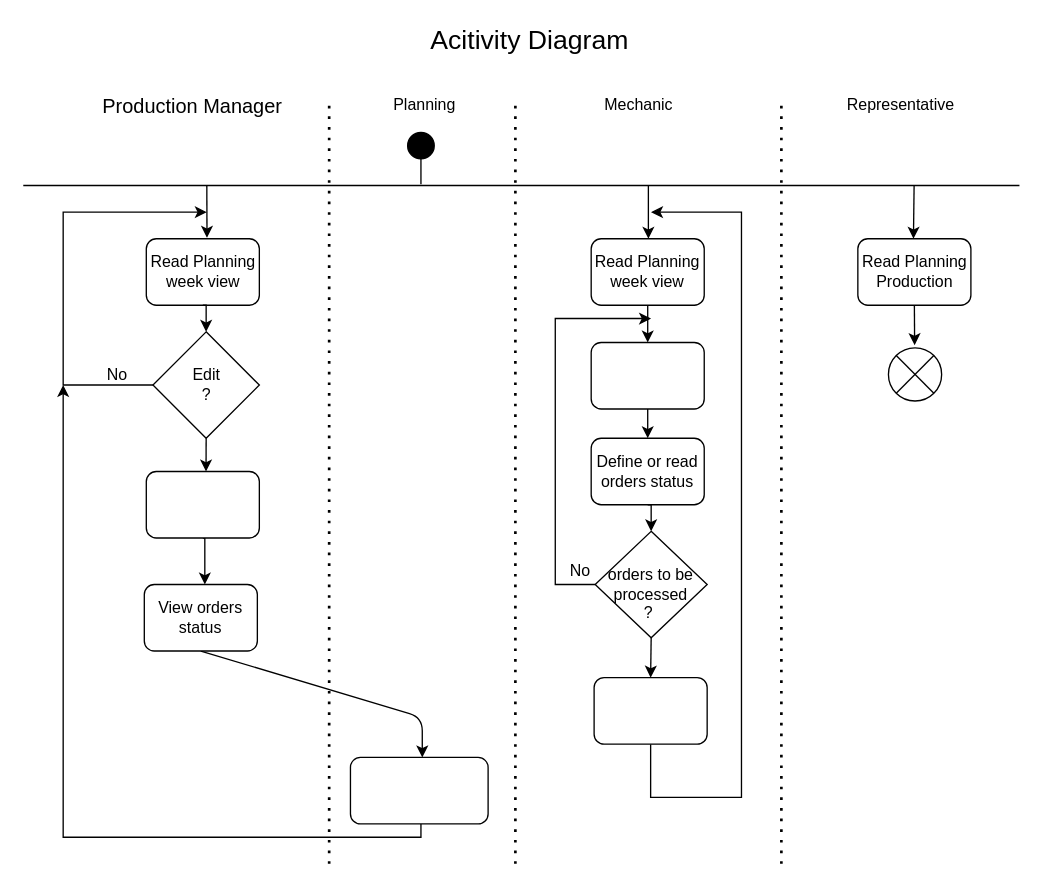
Image size: 1044x888. Some labels were removed from this diagram. Each missing label, with the centre of its shape:
"Add orders to be proccesed in the schedule" goes at pixel 418 790.
"Order processed" goes at pixel 650 710.
"Read Planning manager" goes at pixel 202 504.
"Select orders in task list" goes at pixel 647 375.
